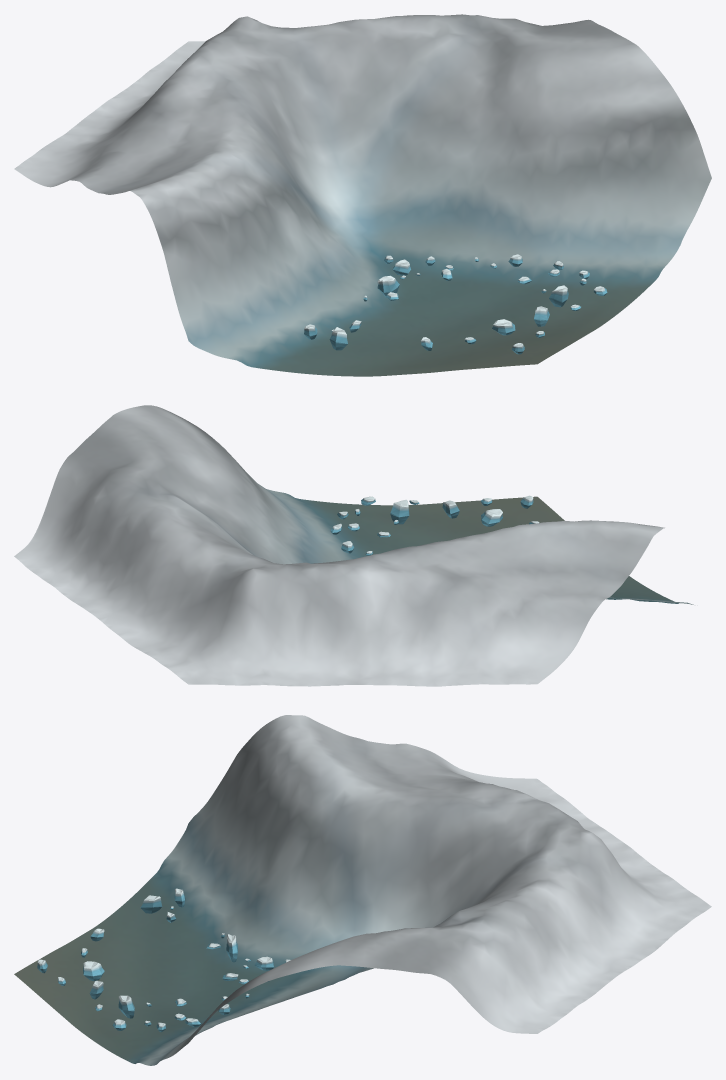
File: costa_+02_-05.glb
3 renders of one model, top to bottom at view 1: azimuth 30°, elevation 25°; view 2: azimuth 150°, elevation 25°; view 3: azimuth 270°, elevation 25°, orthographic.
Visible parts, largest first — view 1: terrain, Formações costeiras; view 2: terrain, Formações costeiras; view 3: terrain, Formações costeiras.
Boxes of the visible parts, x1,y1,x2,y2 form: terrain: [14, 14, 711, 376]; Formações costeiras: [304, 254, 607, 354]; terrain: [14, 405, 693, 686]; Formações costeiras: [330, 495, 539, 555]; terrain: [14, 715, 711, 1065]; Formações costeiras: [37, 888, 290, 1032].
Size of the model in its own units: 4330 by 1225 by 5000.
1 material, 1 textured.
